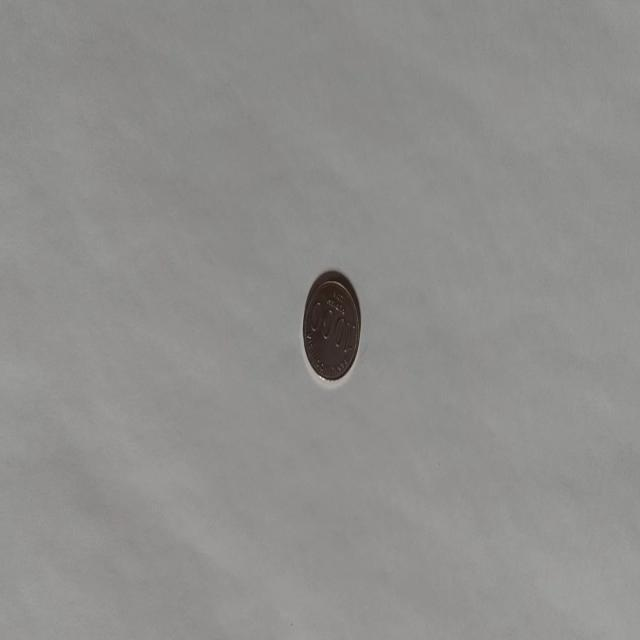seribu rupiah koin: (301, 268, 361, 384)
